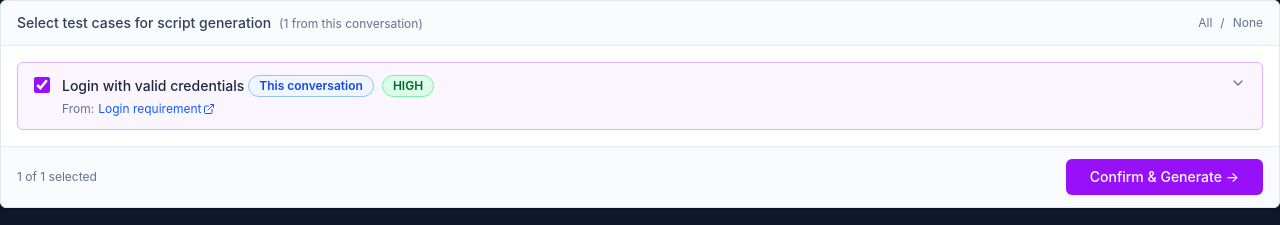
Test: SarahInputSelection › Checkbox interaction › unchecking an entry removes it from the selection count
Expected: the text "1 of 1 selected" is shown, [17, 169, 97, 185]
What coordinates should you click on to do the following:
click the checkbox
I would click on:
 (42, 85)
Its box is [34, 77, 50, 93].
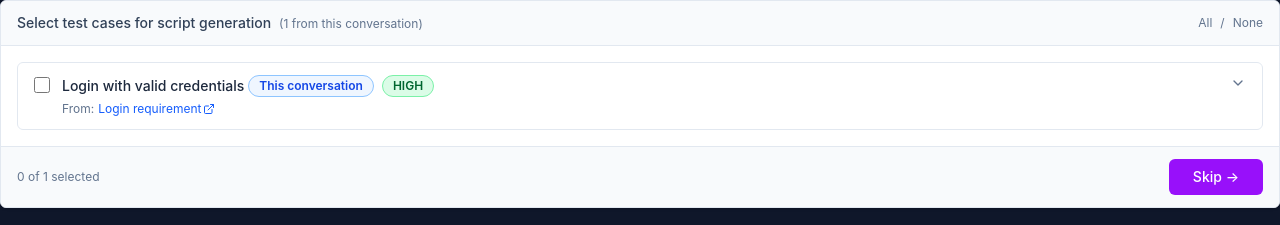
Expected: the text "0 of 1 selected" is shown, [17, 169, 100, 185]
